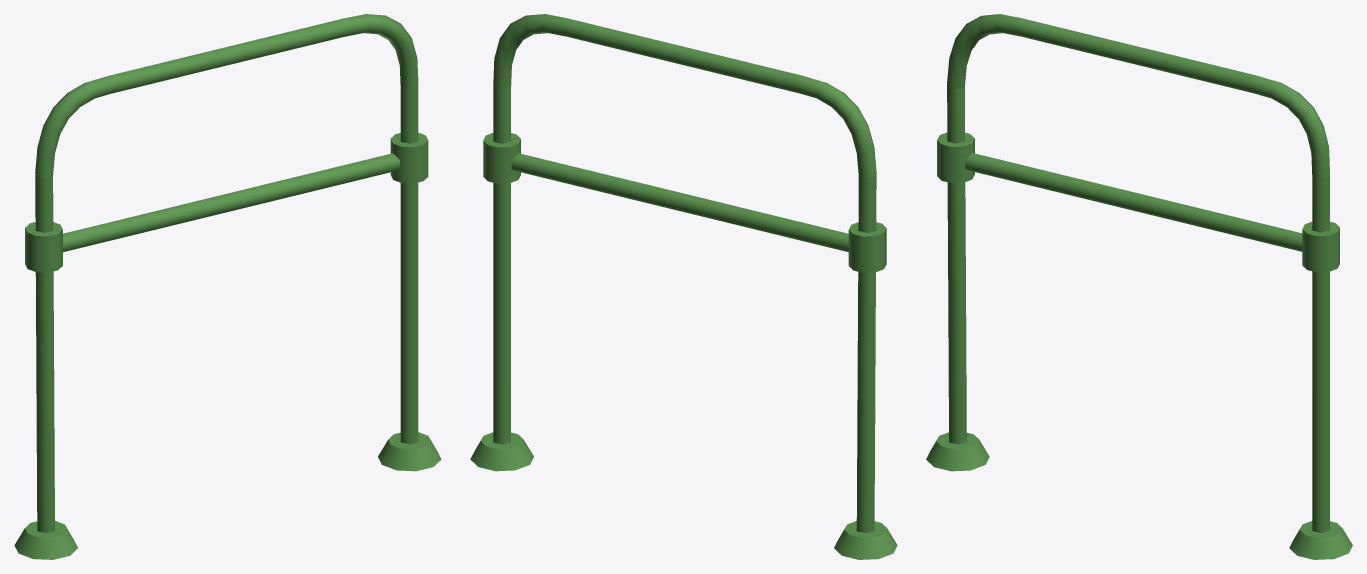
Rendered from parapet fence sm lod0.FBX.
3 views of the same model, side by side, from view 1: azimuth 30°, elevation 25°; view 2: azimuth 150°, elevation 25°; view 3: azimuth 330°, elevation 25° (orthographic).
Visible parts, largest first — view 1: Object348; view 2: Object348; view 3: Object348.
Boxes of the visible parts, box(x1,y1,x2,y2) form: Object348: box(14, 14, 441, 559); Object348: box(470, 14, 897, 559); Object348: box(926, 14, 1352, 559).
Bounding box in the file's own units: 0.9426 × 0.9795 × 0.1188.
